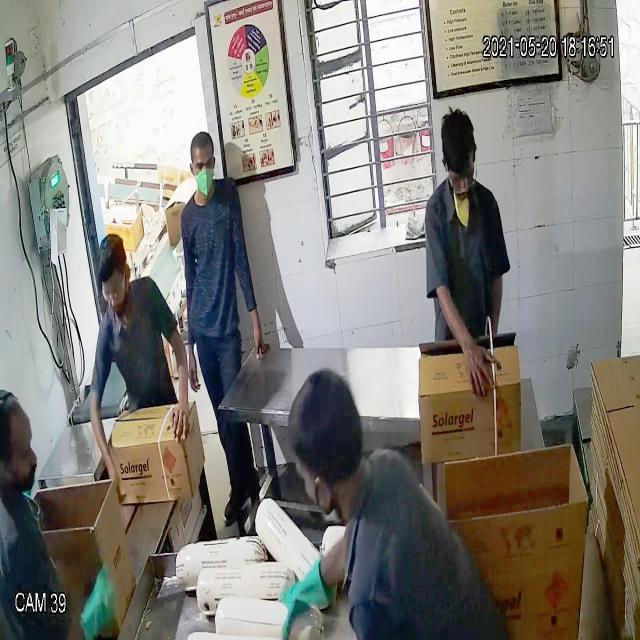glasses: (94, 276, 138, 308)
no-glass: (184, 154, 220, 176)
